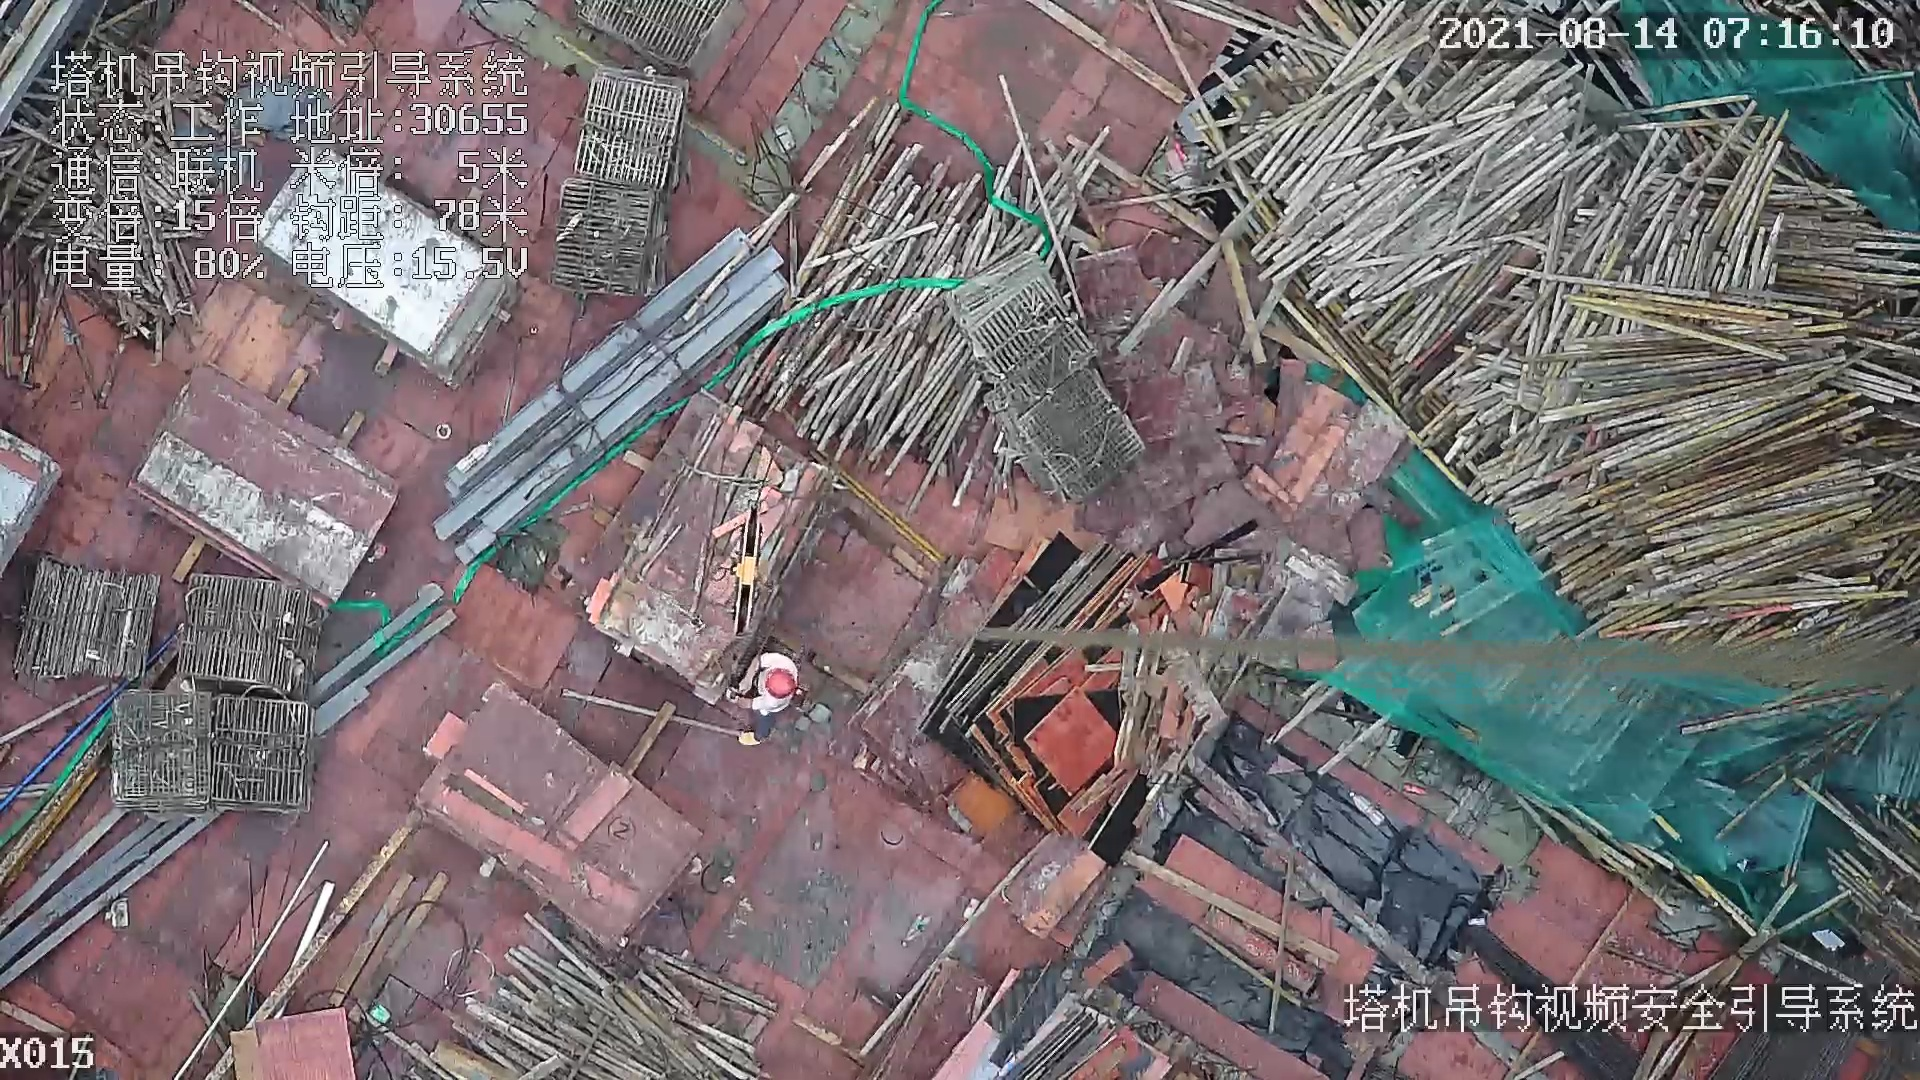helmet: (762, 664, 810, 702)
hook: (727, 503, 760, 641)
person: (728, 659, 804, 744)
